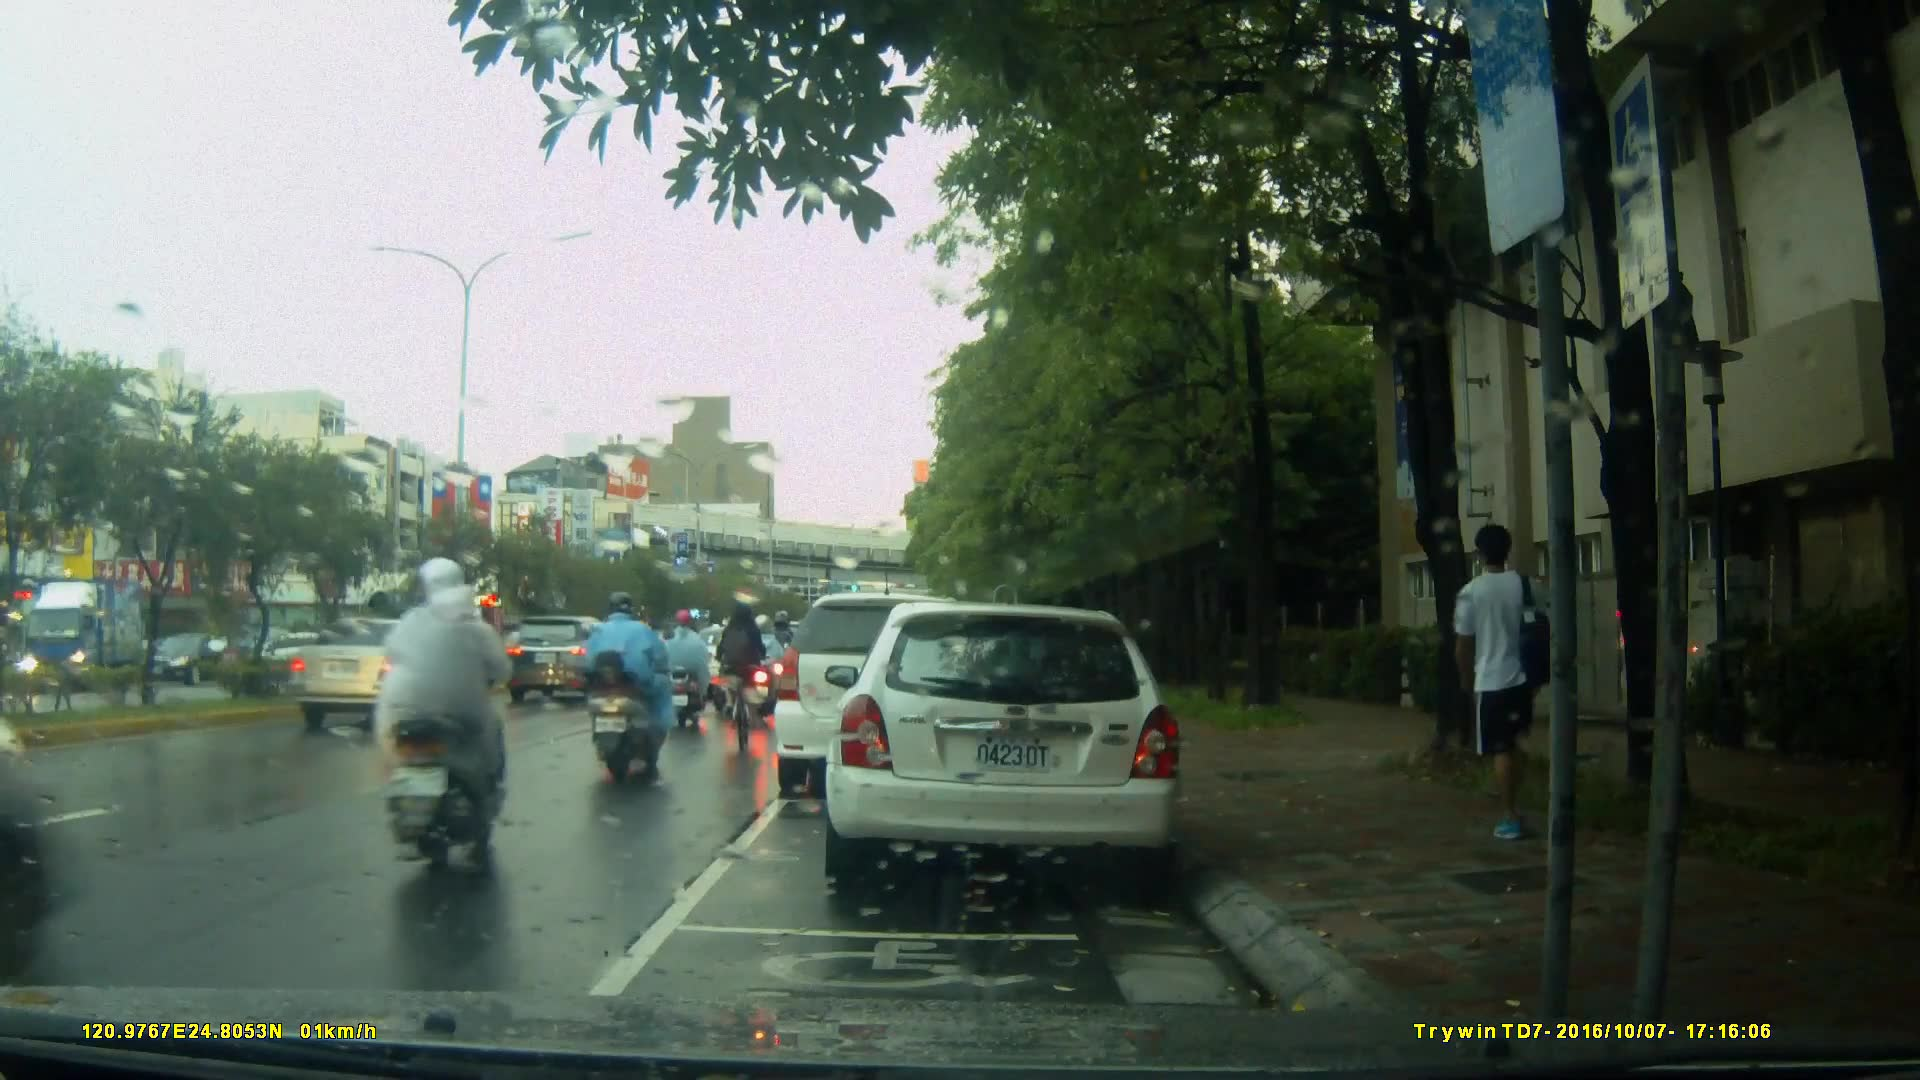pedestrian: (1459, 512, 1573, 876)
rider: (374, 561, 518, 882), (587, 594, 677, 781), (370, 594, 446, 783), (715, 601, 769, 768), (658, 605, 714, 724), (743, 619, 790, 725), (708, 612, 752, 708)
vehicle: (822, 604, 1188, 882), (774, 595, 995, 802), (268, 611, 466, 730), (20, 576, 161, 697), (503, 614, 630, 706), (144, 630, 241, 686)
